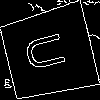U: (24, 28, 75, 74)
